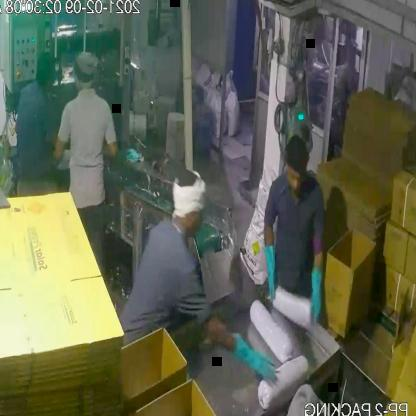glove: (228, 328, 278, 392), (307, 250, 327, 332), (260, 228, 278, 306)
